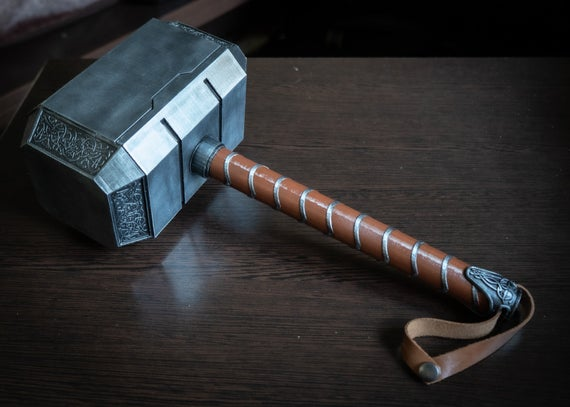THOR Hammer: (22, 21, 553, 310)
